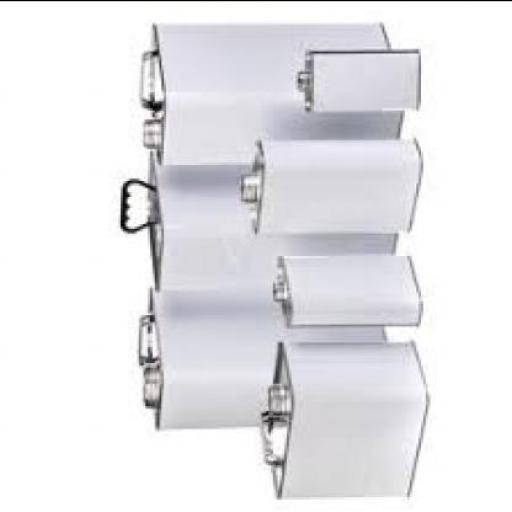metal: (139, 16, 403, 161), (118, 154, 405, 285), (137, 289, 389, 426), (260, 339, 432, 494), (236, 136, 428, 234), (266, 252, 426, 324), (291, 48, 422, 107)
